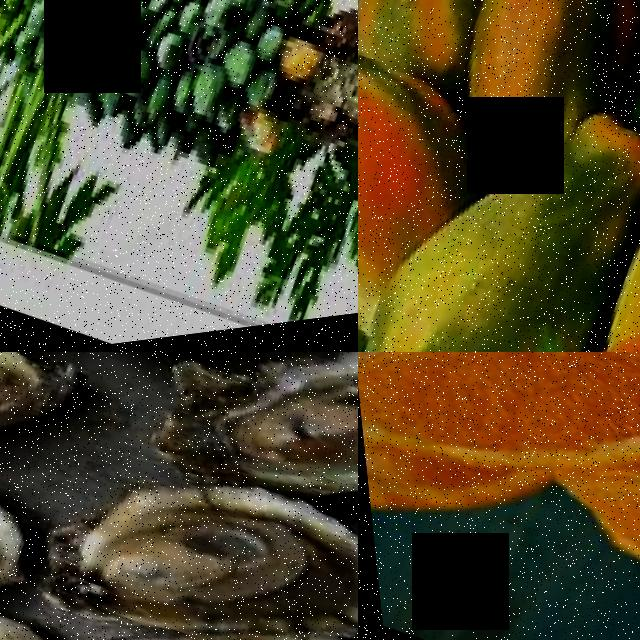orange: (358, 352, 640, 550), (531, 371, 640, 640)
oysters: (9, 403, 358, 640), (122, 352, 358, 609), (29, 576, 358, 640), (0, 352, 89, 501), (43, 352, 253, 405)
pawpaw: (358, 149, 605, 352), (358, 33, 482, 316), (440, 0, 640, 154), (358, 0, 514, 102)
